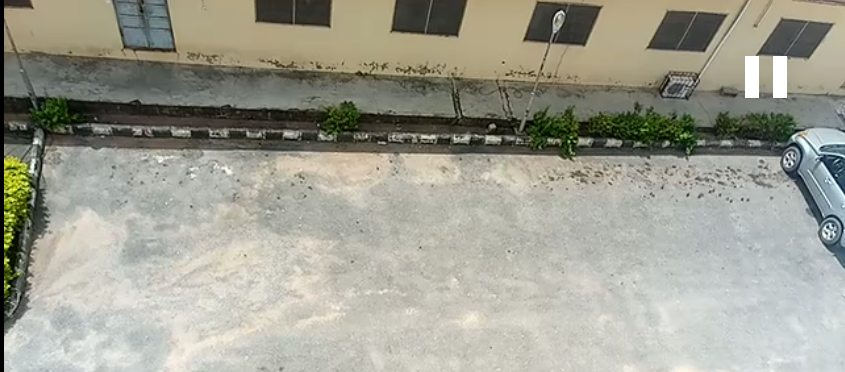four: (580, 114, 719, 337)
one: (11, 99, 192, 330)
three: (404, 122, 525, 333)
two: (241, 104, 364, 327)
